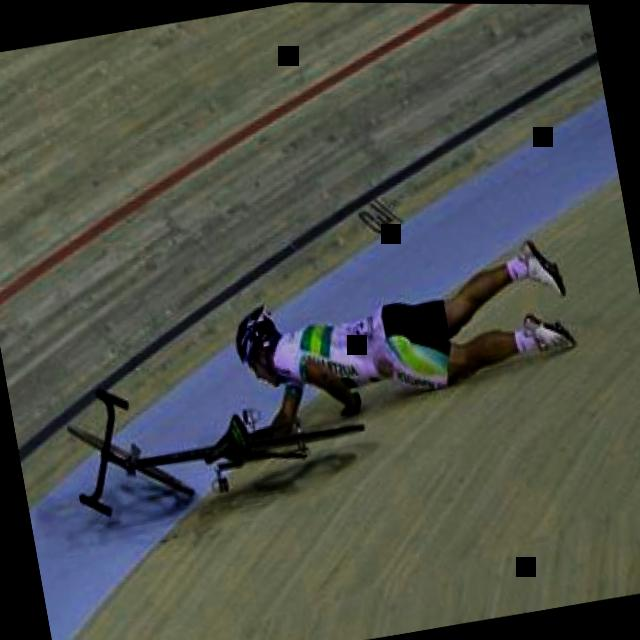Fall-Detected: (187, 199, 596, 457)
